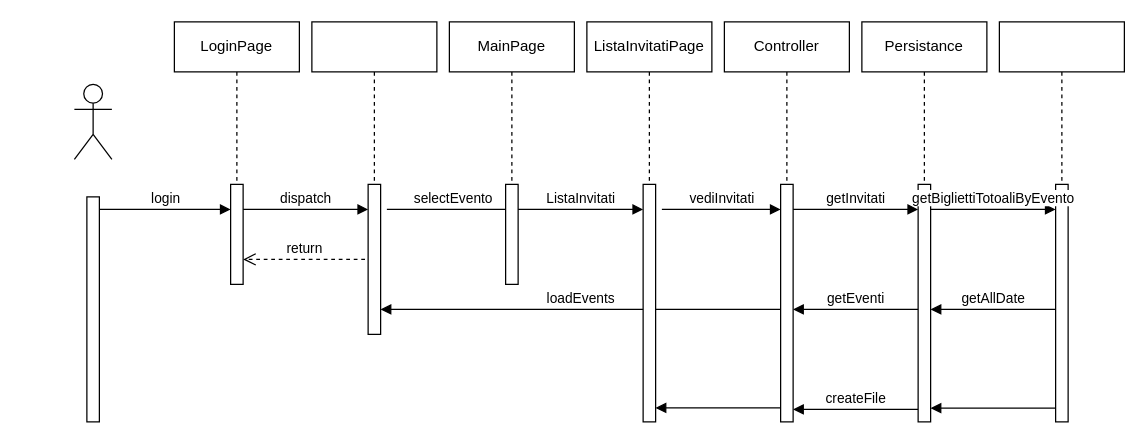
Some shapes in this 1146 by 444 pixel diagram are drawn without their labels. Here are the shapes that lost their labels. From the top down, the box of each, then its label:
(73, 83, 112, 159): Organizzatore/Staffer
(311, 21, 437, 284): EventsPage
(998, 21, 1124, 284): BigliettoDAO
